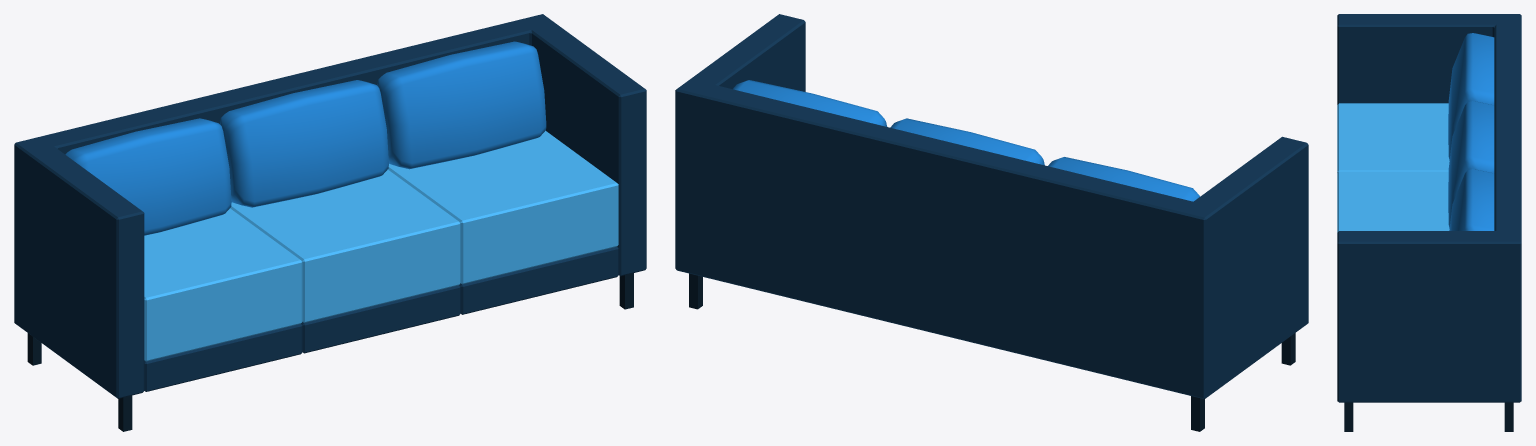
Rendered from Prop_Sofa_06_D.fbx.
3 renders of one model, left to right at view 1: azimuth 30°, elevation 25°; view 2: azimuth 150°, elevation 25°; view 3: azimuth 270°, elevation 25°, orthographic. The views are drawn at different scales.
Visible parts, largest first — view 1: Prop_Sofa_06_D; view 2: Prop_Sofa_06_D; view 3: Prop_Sofa_06_D.
Part boxes in pixels (x1,y1,x2,y2): Prop_Sofa_06_D: (14,14,646,431); Prop_Sofa_06_D: (675,14,1308,431); Prop_Sofa_06_D: (1337,14,1521,431).
Size of the model in its own units: 222 by 87.99 by 75.58.
